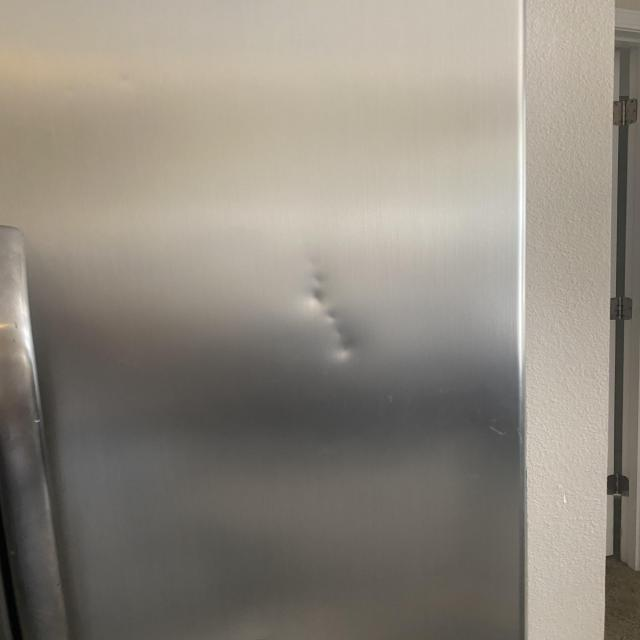dents: (278, 275, 410, 389)
